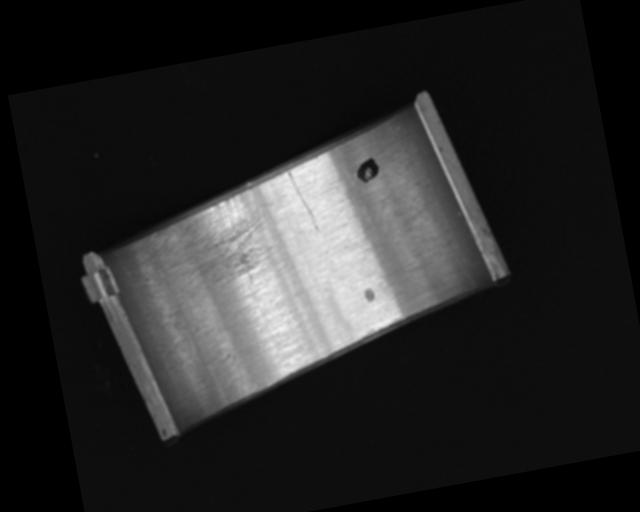blot: (352, 156, 381, 184)
bruise: (362, 285, 376, 303)
nick: (410, 197, 475, 298), (287, 167, 321, 236)
scratch: (145, 184, 277, 299)
